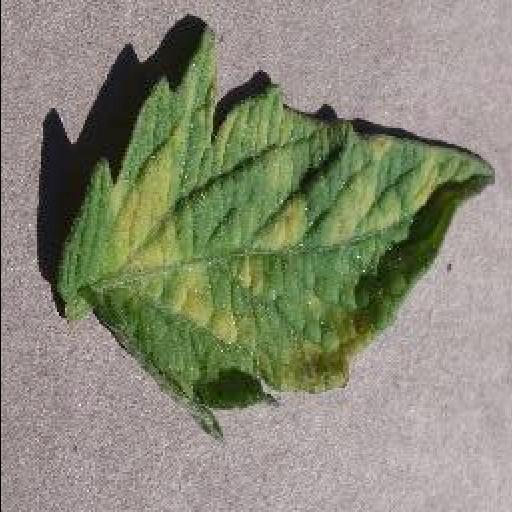disease_tomato: (56, 24, 496, 446)
